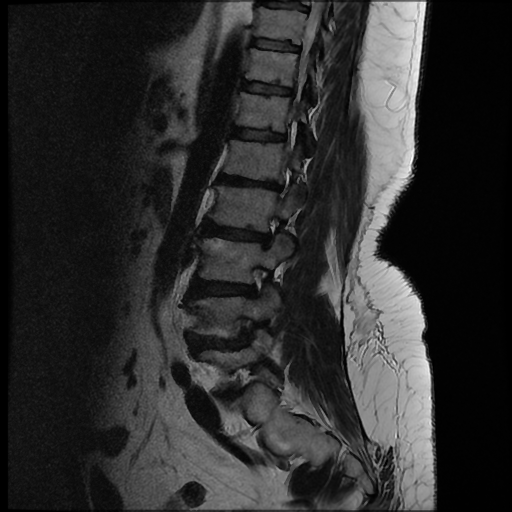LFS1: (239, 253, 278, 306)
